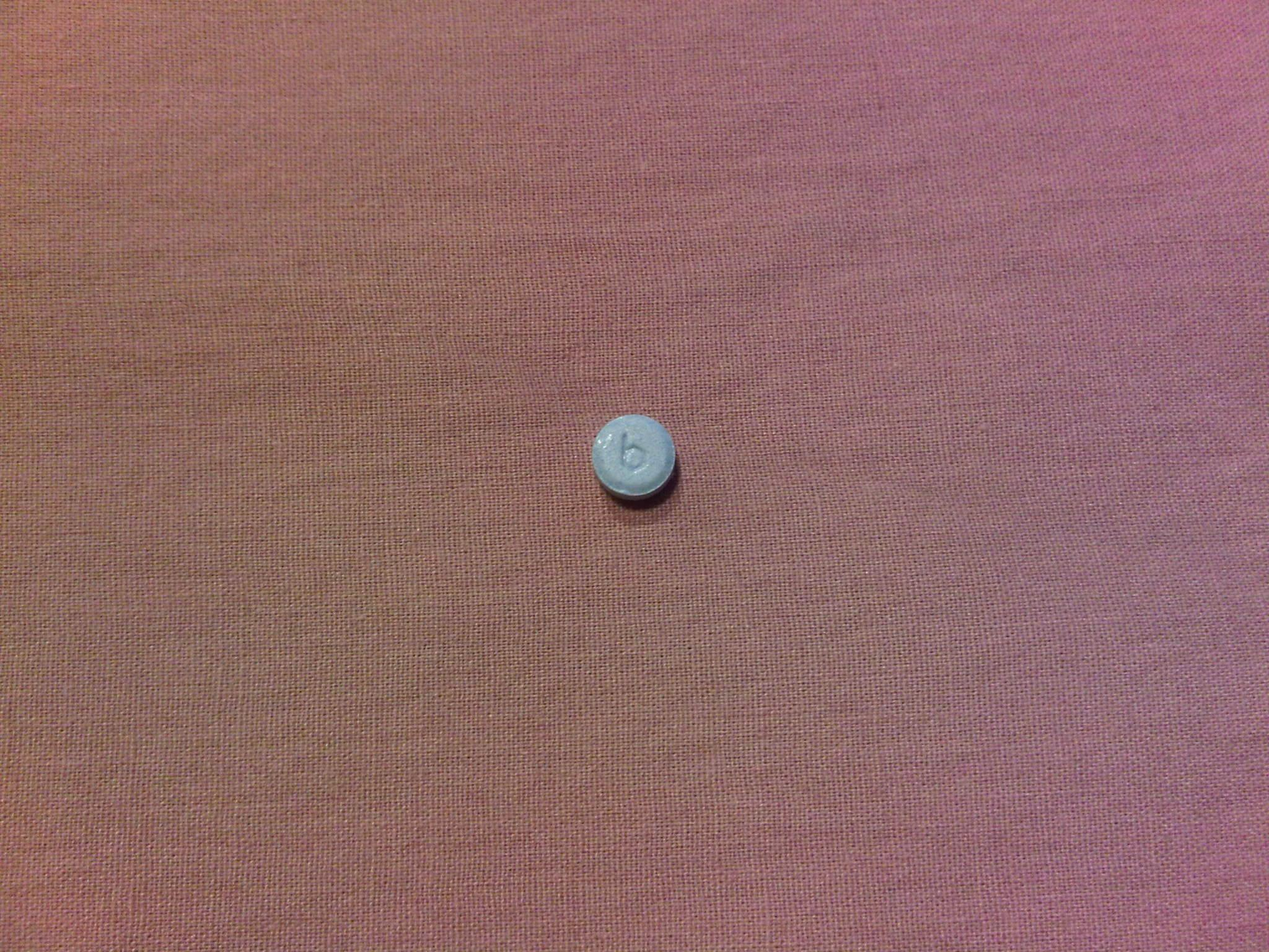Pill: (582, 404, 685, 508)
